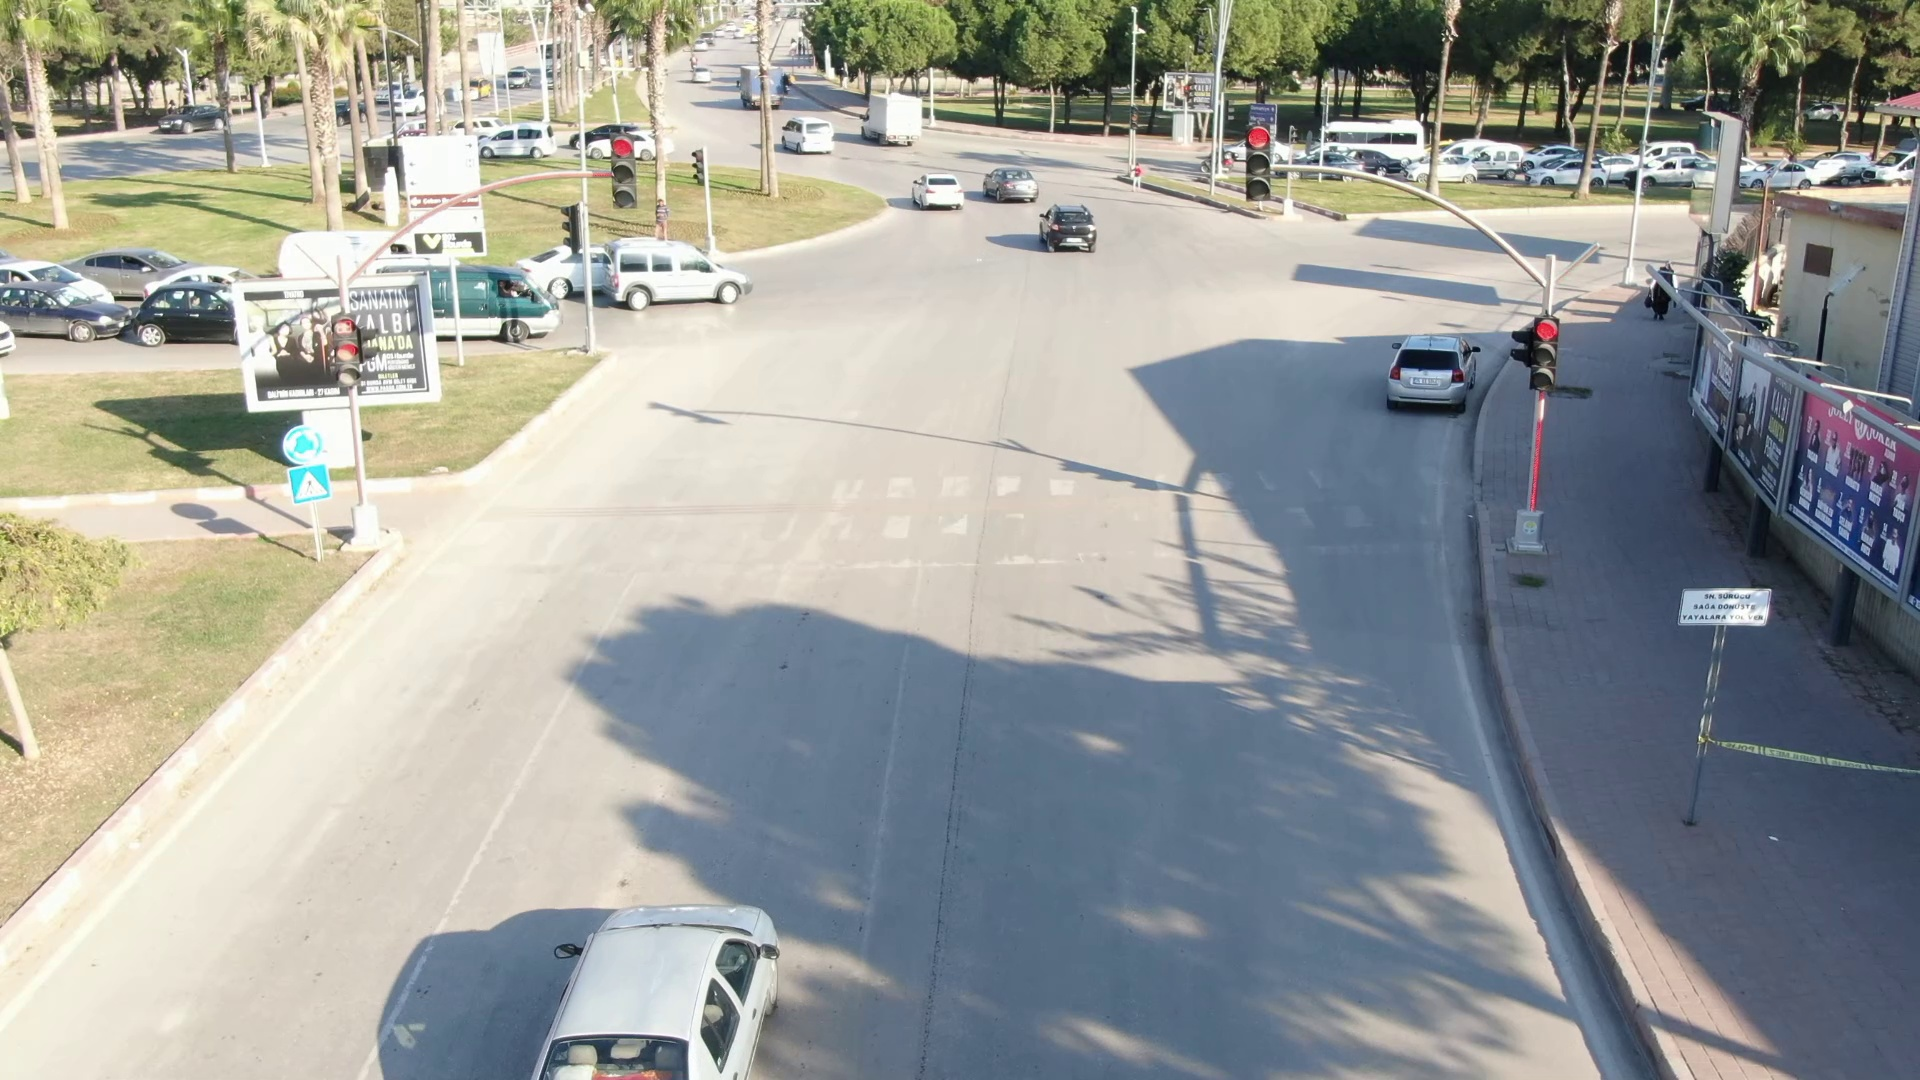car: (510, 851, 793, 1080), (604, 228, 765, 322), (1373, 315, 1494, 419), (1029, 196, 1109, 264), (851, 84, 926, 149), (771, 105, 851, 158), (898, 164, 968, 222), (976, 156, 1046, 212)
